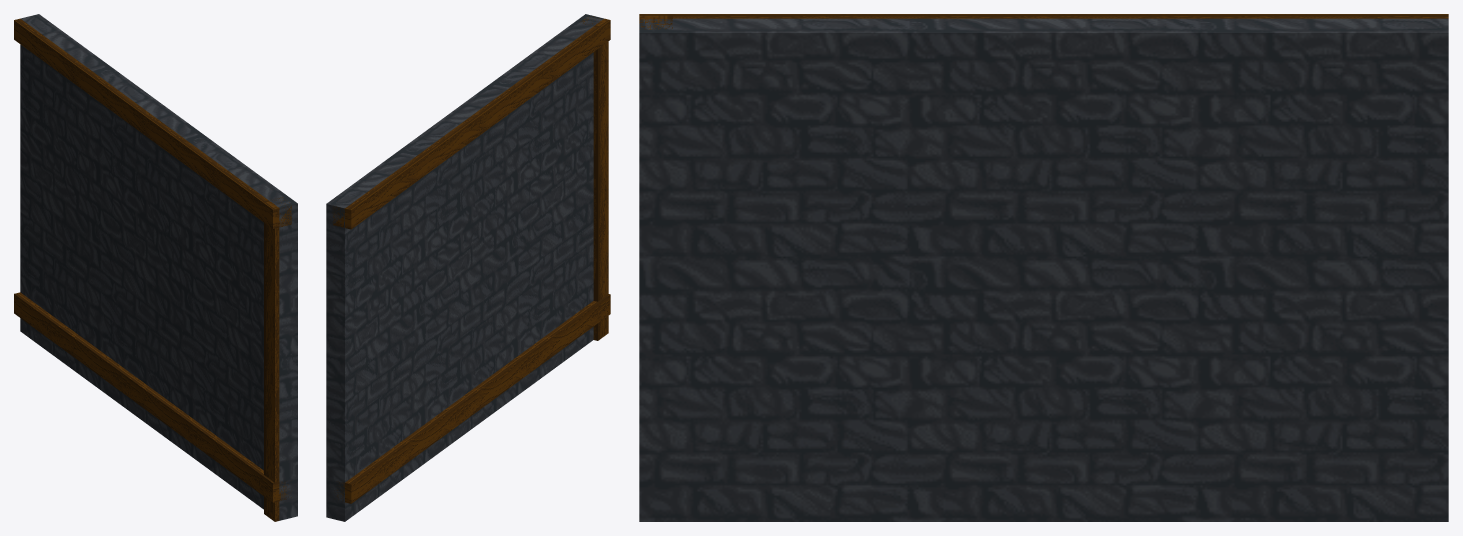
The model's file is Wand 4_8m V2.fbx.
The picture shows the model from 3 angles, left to right: view 1: azimuth 30°, elevation 25°; view 2: azimuth 150°, elevation 25°; view 3: azimuth 270°, elevation 25°; orthographic projection. The views are drawn at different scales.
Visible parts, largest first — view 1: Cube.017; view 2: Cube.017; view 3: Cube.017.
Part boxes in pixels (x1,y1,x2,y2): Cube.017: [14, 14, 297, 521]; Cube.017: [326, 14, 610, 521]; Cube.017: [639, 14, 1448, 521].
Bounding box in the file's own units: 26.77 × 480 × 320.
Materials: 1 (1 with a texture image).
